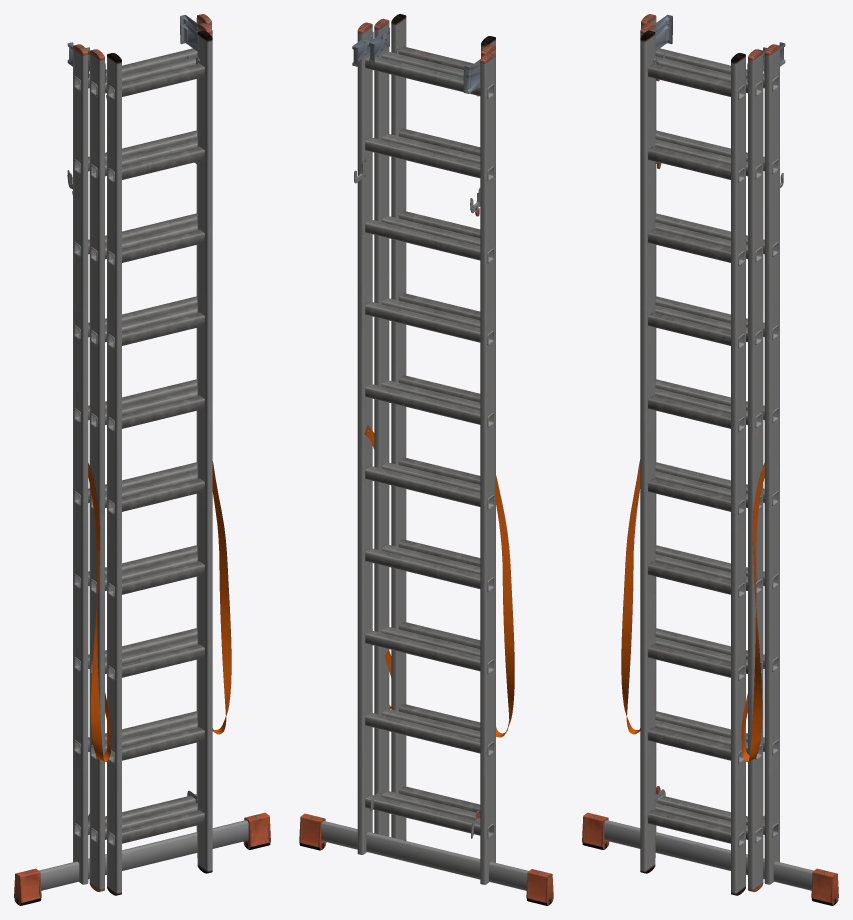
Rendered from ladder_sectioned_01.glb.
The picture shows the model from 3 angles, left to right: view 1: azimuth 30°, elevation 25°; view 2: azimuth 150°, elevation 25°; view 3: azimuth 330°, elevation 25°; orthographic projection.
Parts seen in each view (by area): view 1: ladder_section_01; view 2: ladder_section_01; view 3: ladder_section_01.
Boxes of the visible parts, bbox=[...] form: ladder_section_01: bbox=[14, 14, 270, 905]; ladder_section_01: bbox=[299, 14, 553, 905]; ladder_section_01: bbox=[582, 14, 838, 905].
Size of the model in its own units: 0.6615 by 2.13 by 0.1776.
1 material, 1 textured.
